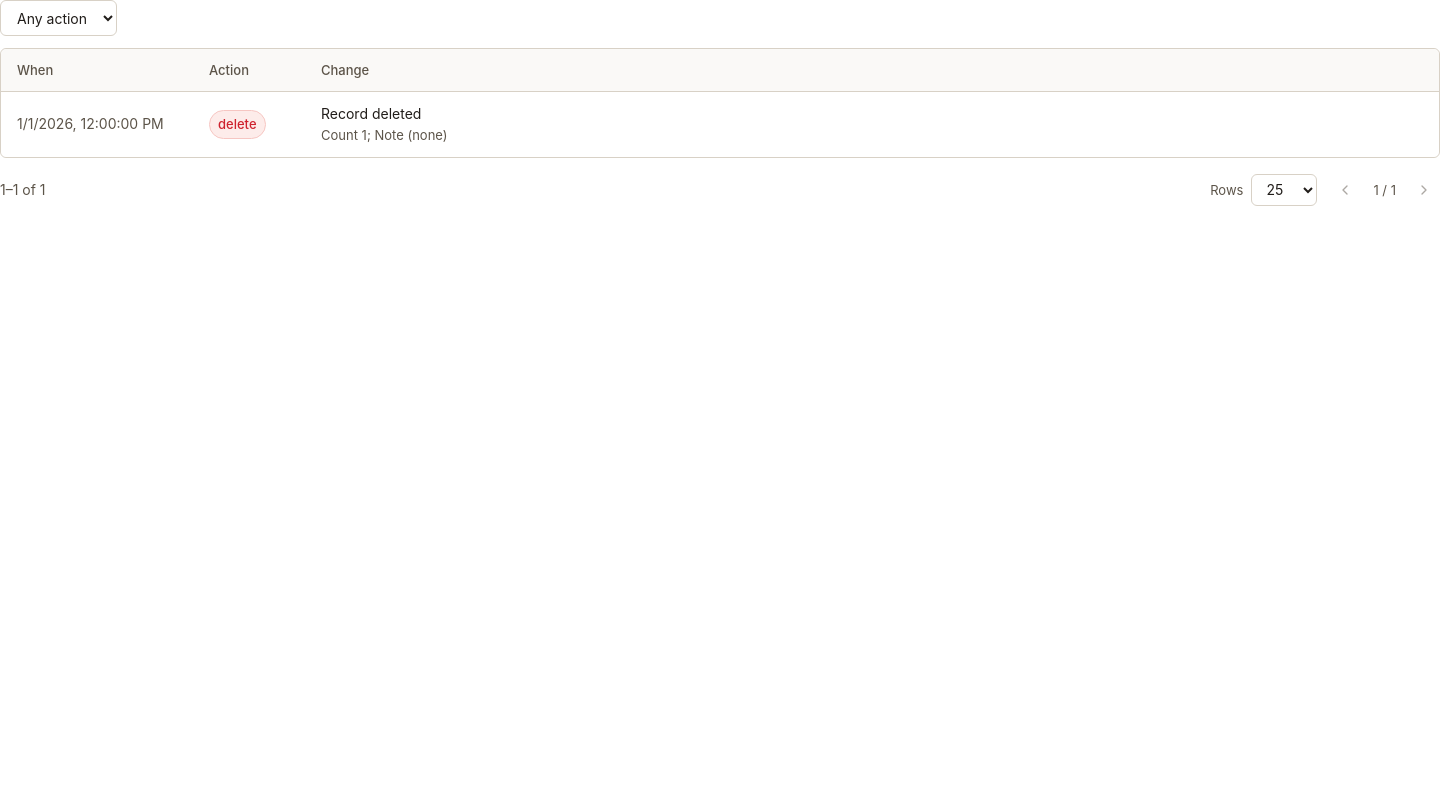
Test: AuditTrail › offers no restore for a deletion that is already undone
Click the text "Record deleted": (371, 114) [321,105,421,122]
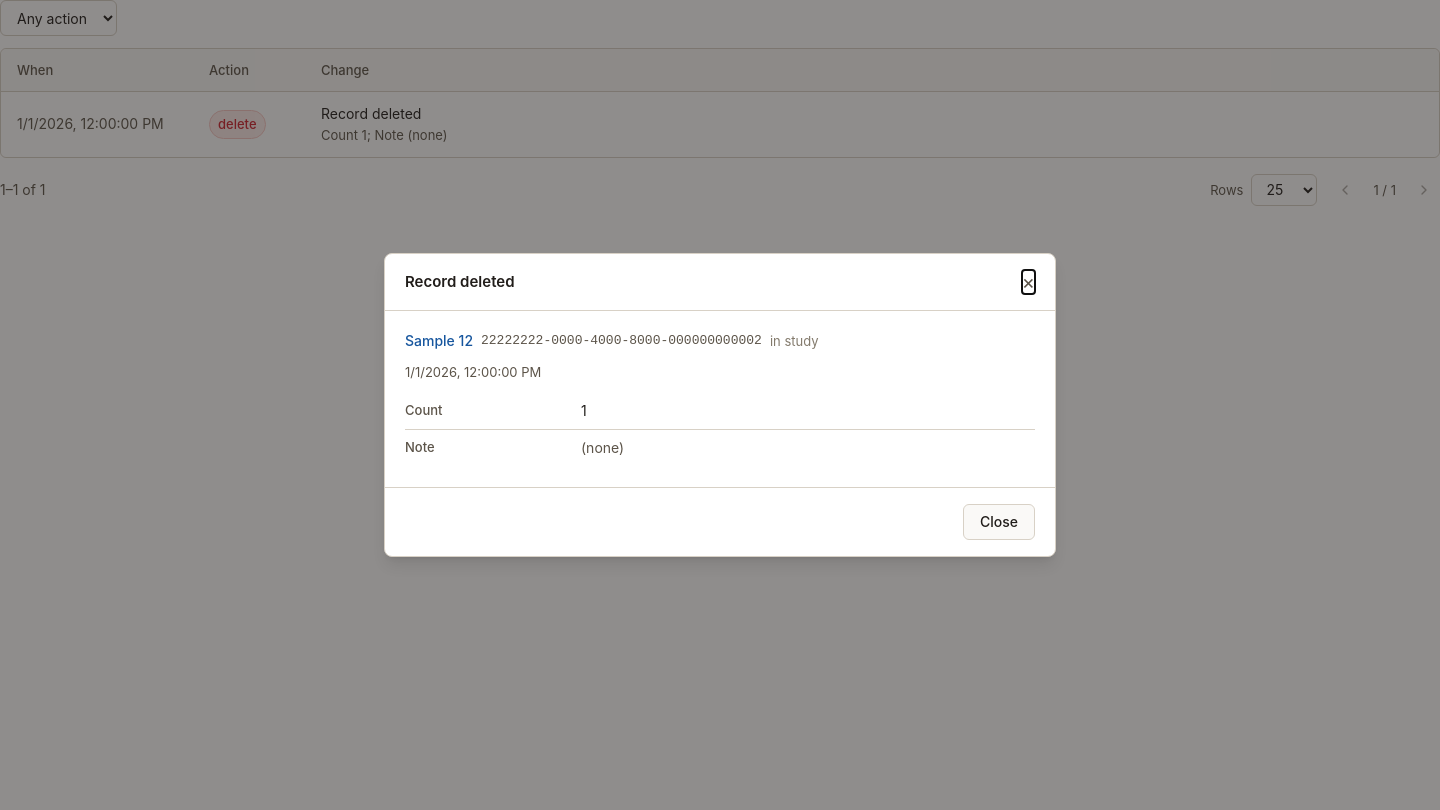
Expected: the dialog is shown, [384,253,1056,557]
